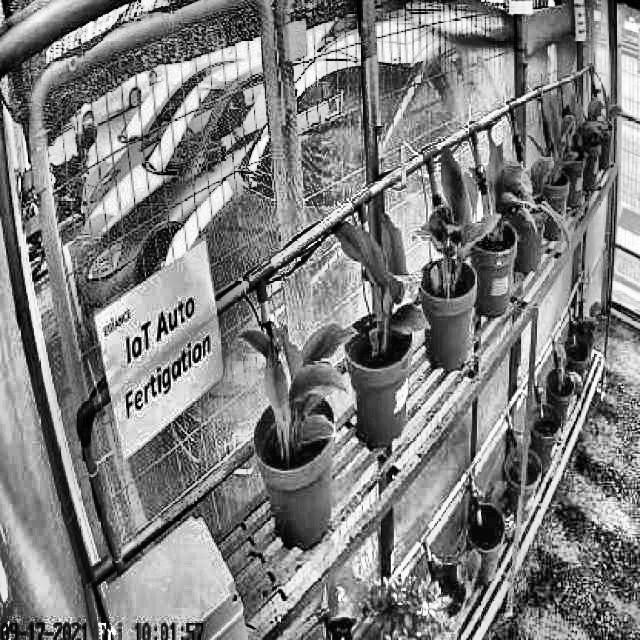plants: (236, 323, 358, 451), (333, 214, 430, 336), (418, 142, 500, 278), (486, 130, 540, 239), (548, 102, 577, 178)
